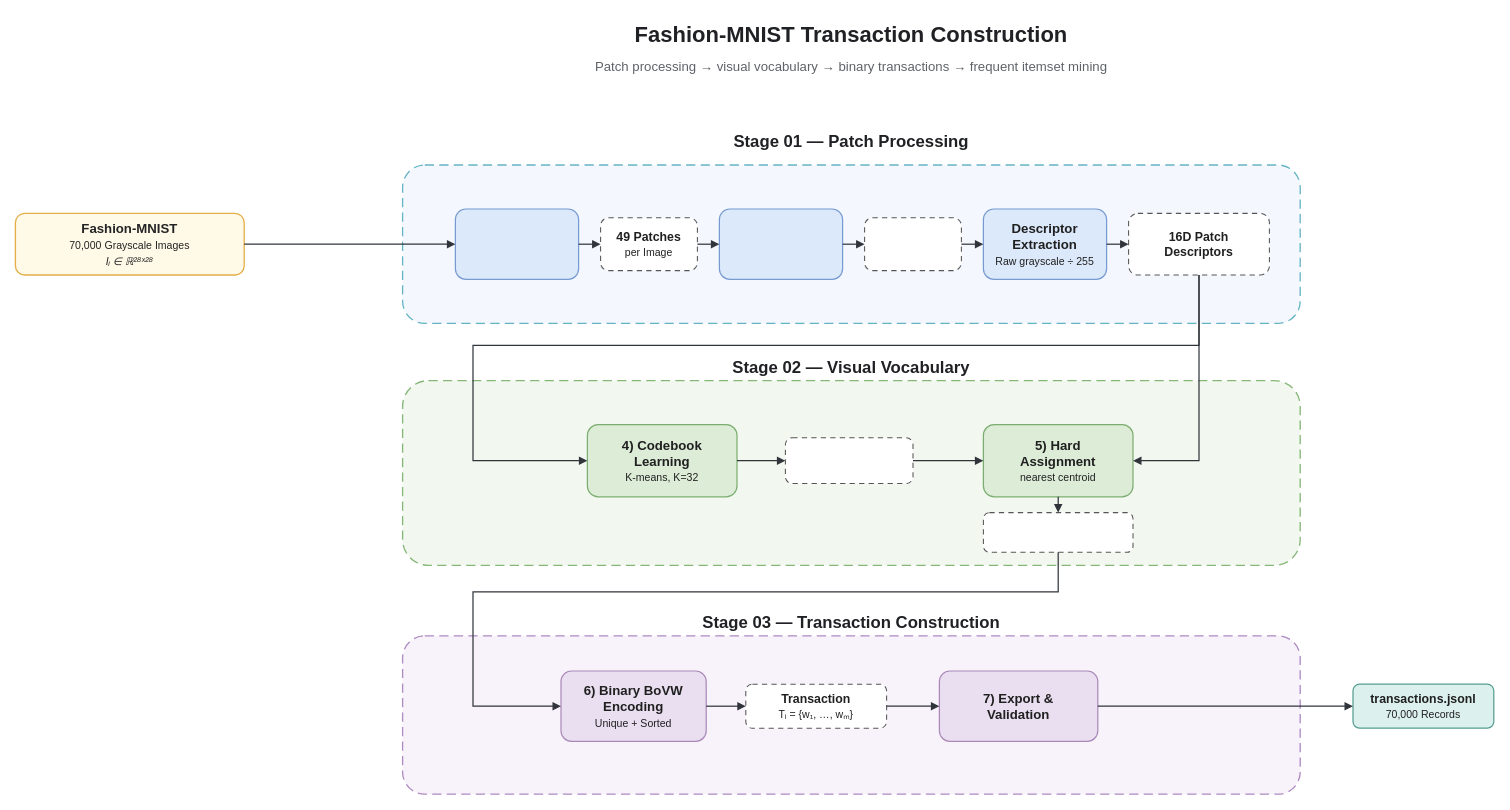
Image size: 1510x810. Some labels were removed from this diagram. Each missing label, with the centre of its shape:
Foreground Filtering Pixel > 29: (780,244)
Patch Extraction 4×4, stride 4: (516,244)
Retained Patches: (912,244)
Visual Codebook 32 Centroids: (848,460)
Visual Word IDs 1, 2, …, 32: (1057,532)
